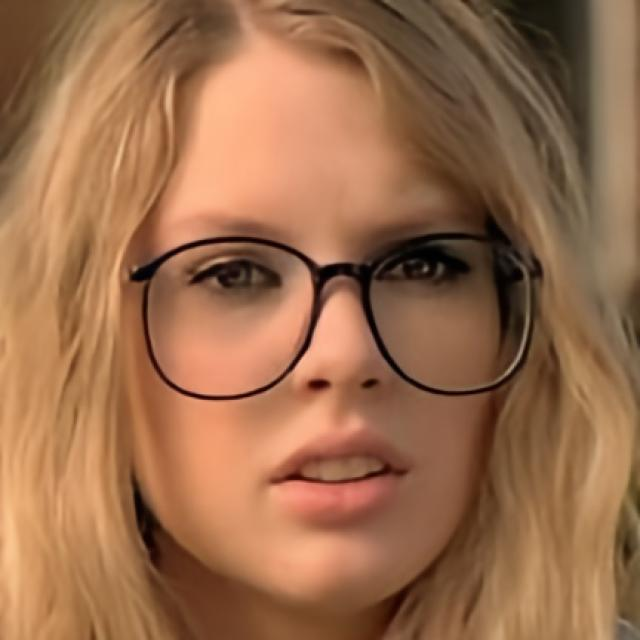disgust: (126, 28, 502, 608)
